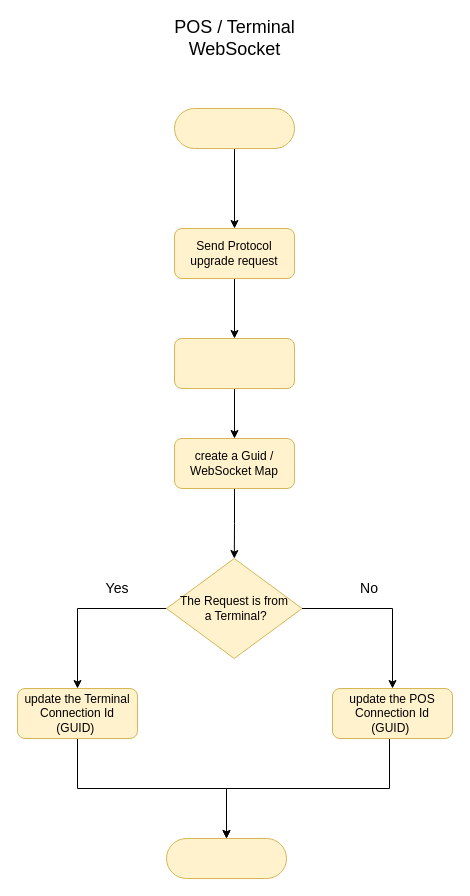
This 470x896 diagram has some shape labels left out. The shapes that lost their labels are listed below. From the top down, each one's centre as x and y in pixels, then its label:
the point at 234,128: Start
the point at 234,363: Create GUID
the point at 226,858: End
